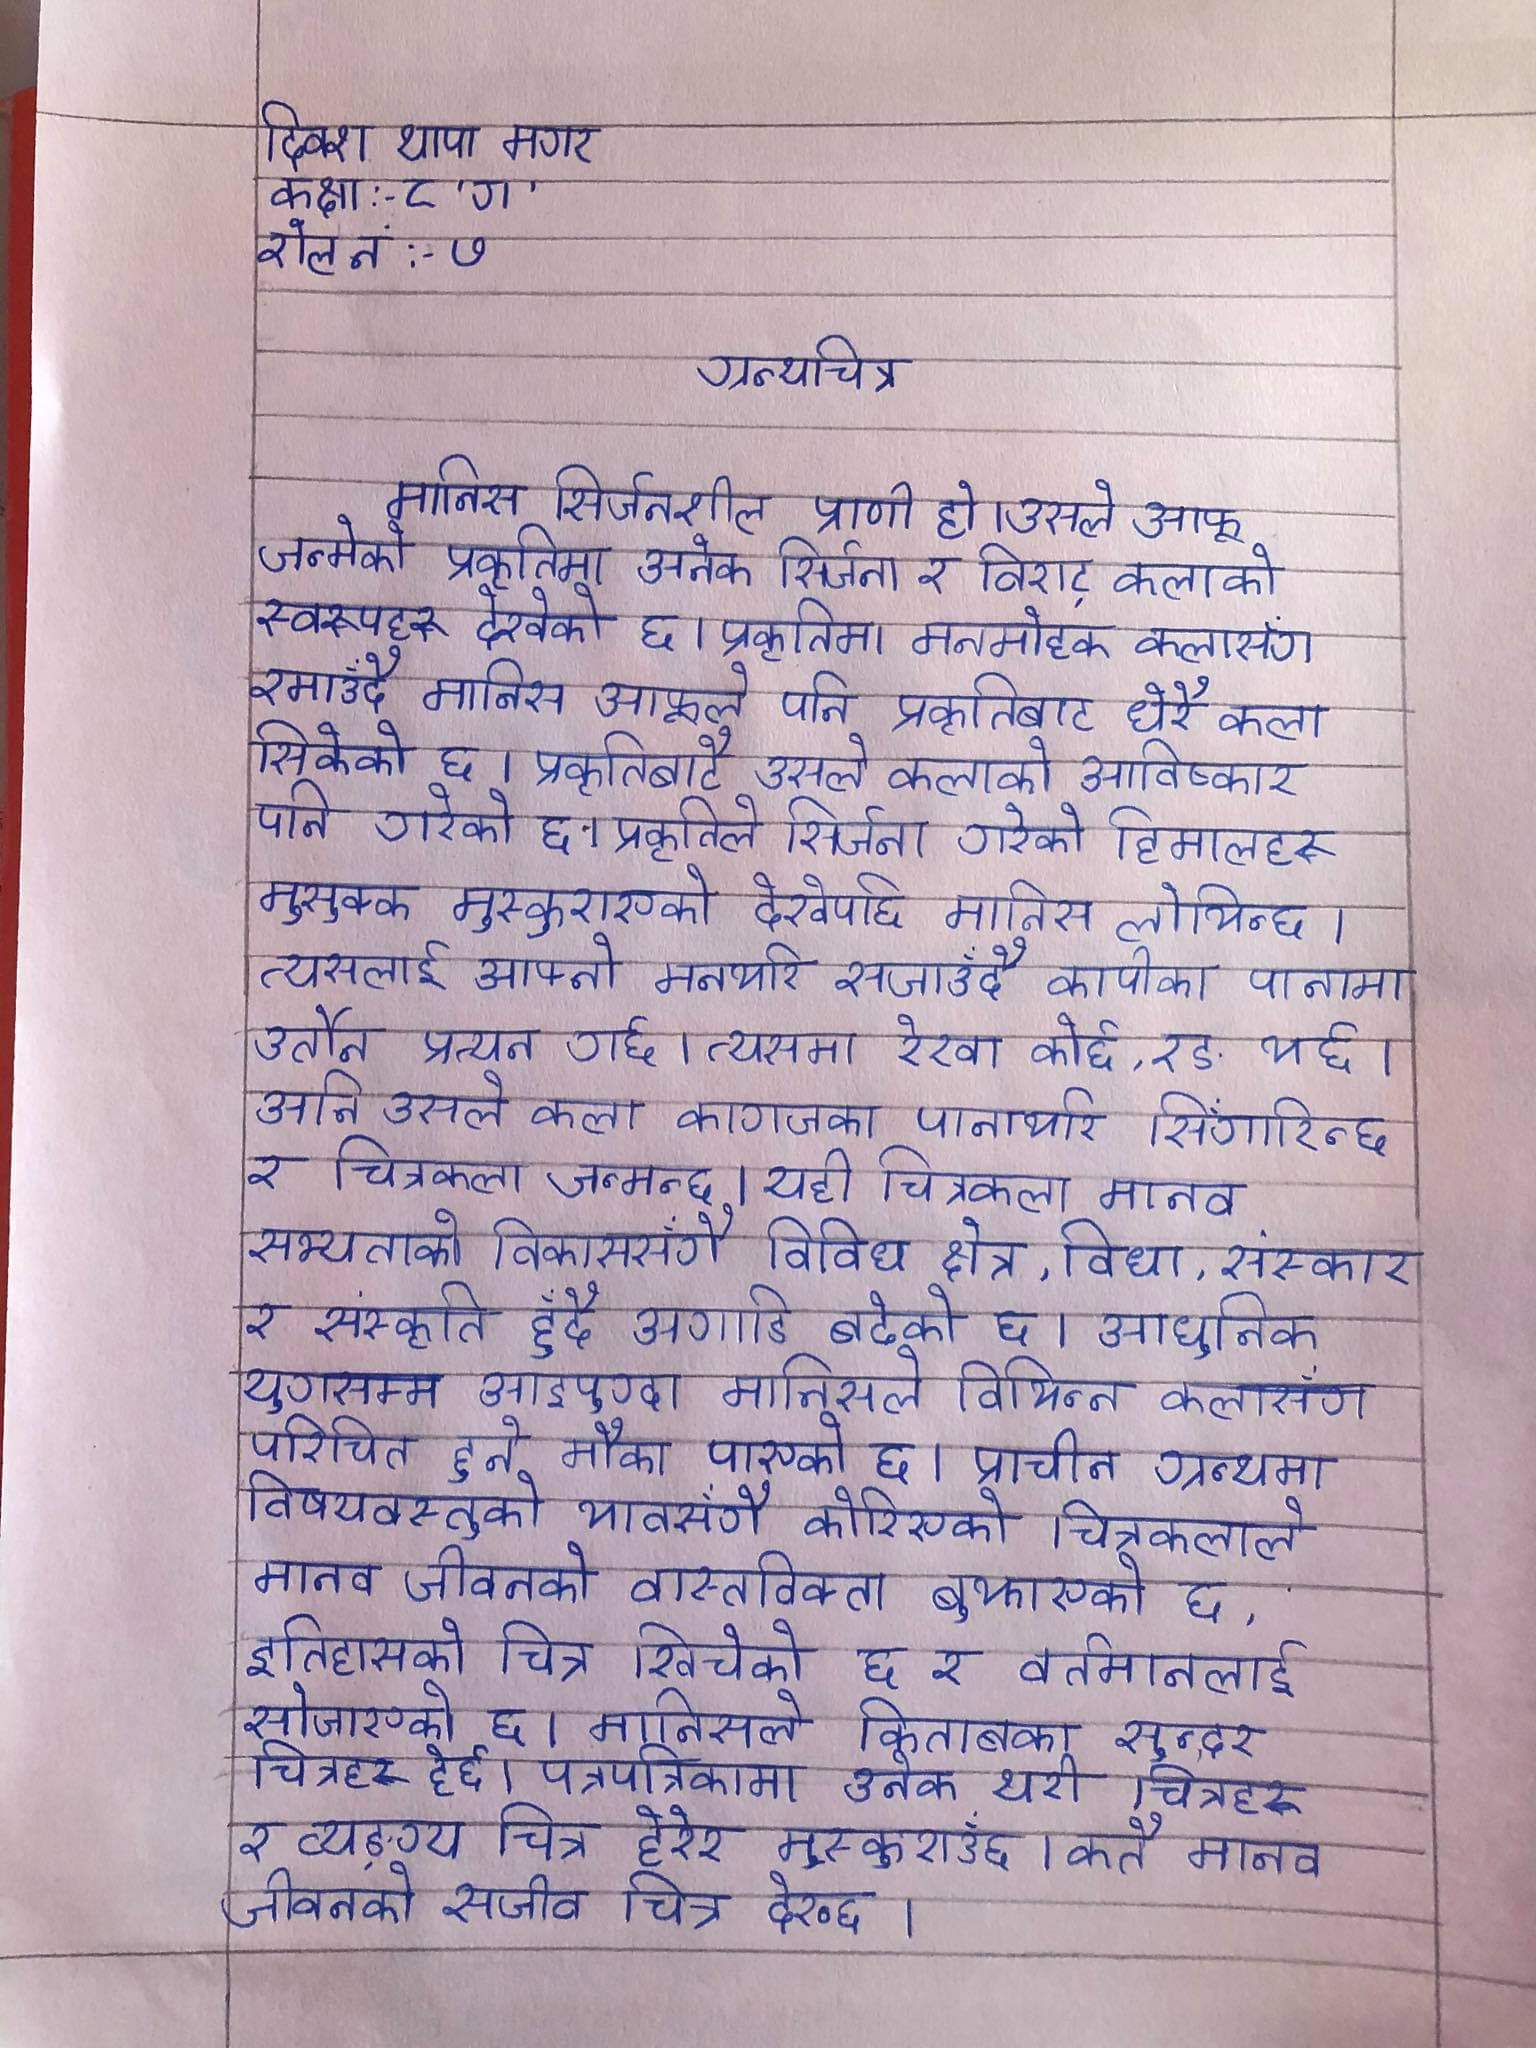text: (1012, 1621, 1326, 1709), (227, 1461, 557, 1542), (1129, 1082, 1407, 1166), (1042, 1492, 1326, 1567), (442, 863, 729, 935), (624, 1542, 897, 1617), (545, 452, 778, 540), (768, 1808, 1037, 1884), (912, 1551, 1167, 1630), (479, 1209, 741, 1284), (1076, 726, 1313, 806), (1094, 800, 1347, 874), (236, 1605, 481, 1680), (532, 1740, 808, 1806), (1087, 1290, 1329, 1364), (691, 319, 921, 397), (611, 1608, 824, 1692), (794, 1476, 1020, 1555), (1113, 866, 1313, 955), (1154, 1356, 1388, 1430), (319, 1126, 537, 1205), (524, 714, 737, 795), (240, 1201, 476, 1274), (198, 1859, 437, 1930), (942, 1343, 1142, 1426), (712, 1343, 933, 1417), (579, 1680, 821, 1748), (561, 1469, 781, 1543), (236, 1682, 466, 1751), (737, 860, 916, 948), (887, 669, 1105, 742), (847, 1695, 1078, 1763), (231, 706, 424, 787), (541, 1130, 729, 1213), (402, 1534, 600, 1611), (950, 1414, 1141, 1495), (870, 1142, 1081, 1214), (668, 1074, 889, 1143), (1220, 1222, 1425, 1297), (224, 1355, 453, 1421), (912, 597, 1125, 668), (465, 1351, 691, 1417), (244, 585, 458, 655), (720, 587, 899, 669), (828, 935, 1037, 1005), (1037, 939, 1225, 1014), (307, 1279, 502, 1351), (902, 1084, 1108, 1151), (247, 863, 437, 935), (442, 1854, 594, 1945), (773, 787, 941, 868), (876, 734, 1066, 805), (240, 640, 415, 718), (232, 1408, 431, 1476), (253, 513, 419, 593), (608, 1864, 747, 1959), (1149, 1434, 1350, 1498), (252, 939, 458, 1001), (1129, 606, 1320, 674), (1105, 539, 1294, 606), (1121, 1758, 1317, 1822), (465, 576, 620, 656), (753, 1869, 891, 1959), (692, 1408, 858, 1482), (624, 1285, 800, 1355), (933, 871, 1100, 943), (381, 452, 528, 534), (647, 934, 816, 1005), (753, 1209, 921, 1280), (610, 790, 766, 866), (470, 930, 629, 1003), (591, 651, 762, 719), (1046, 1214, 1191, 1292), (286, 1809, 482, 1866), (481, 1601, 608, 1688), (365, 787, 524, 856), (437, 531, 611, 593), (1234, 951, 1417, 1011), (244, 1737, 416, 1800), (820, 1282, 968, 1355), (242, 1000, 386, 1074), (624, 1790, 749, 1875), (250, 90, 379, 173), (694, 1016, 868, 1076), (1187, 1822, 1341, 1890), (419, 655, 574, 721), (883, 1001, 1012, 1080), (247, 1538, 390, 1608), (1105, 1709, 1276, 1766), (1087, 1163, 1249, 1222), (957, 798, 1096, 868), (387, 1064, 515, 1138), (1054, 1804, 1173, 1884), (773, 531, 908, 600), (966, 535, 1102, 605), (550, 1411, 681, 1480), (632, 526, 765, 593), (1208, 685, 1342, 751), (516, 1272, 611, 1364), (749, 734, 887, 797), (933, 1205, 1033, 1292), (492, 1793, 600, 1872), (799, 472, 928, 539), (245, 1068, 374, 1134), (1020, 1006, 1129, 1084), (561, 1000, 666, 1080), (1007, 476, 1129, 543), (523, 1080, 653, 1143), (247, 774, 347, 855), (437, 1401, 528, 1490), (841, 1750, 966, 1813), (1129, 487, 1250, 552), (1250, 1013, 1368, 1079), (489, 111, 611, 174), (757, 1143, 870, 1209), (415, 1018, 549, 1072), (250, 203, 344, 279), (987, 1753, 1104, 1813), (261, 166, 376, 226), (1120, 672, 1217, 742), (384, 108, 492, 169), (774, 663, 868, 731), (413, 1738, 495, 1803), (1150, 1026, 1233, 1085), (925, 1630, 992, 1701), (236, 1138, 310, 1203), (215, 1801, 287, 1864), (1178, 1566, 1238, 1634), (478, 1693, 537, 1761), (849, 1630, 912, 1693), (628, 600, 687, 666), (925, 476, 983, 540), (524, 801, 582, 866), (984, 1293, 1049, 1351), (386, 164, 449, 223), (227, 1295, 295, 1347), (908, 543, 968, 601), (442, 227, 503, 284), (863, 1426, 920, 1487), (432, 727, 487, 790), (344, 219, 395, 281), (465, 166, 524, 218)
